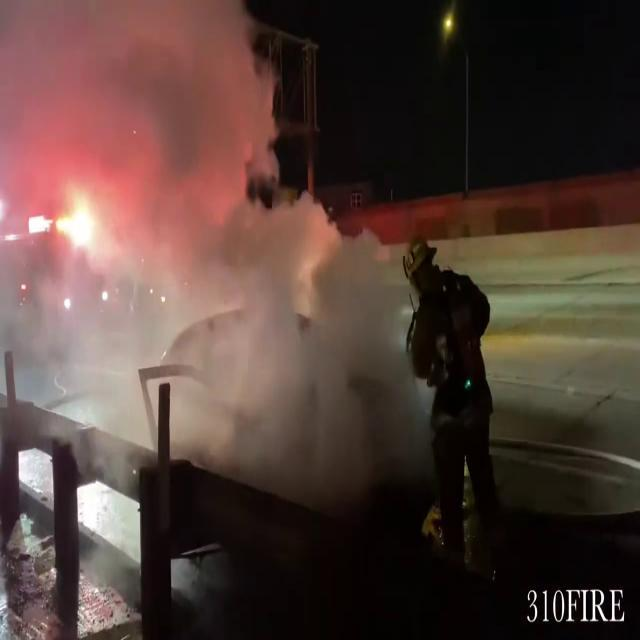Smoke: (0, 0, 436, 500)
